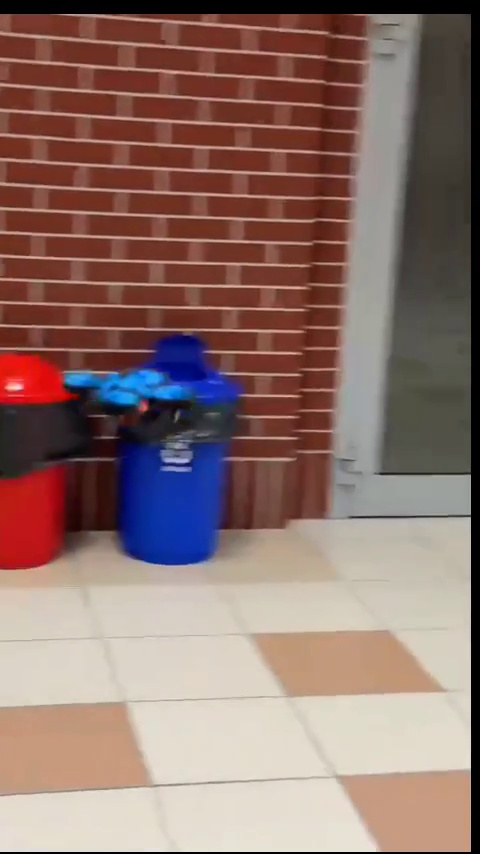drone: (65, 368, 195, 420)
